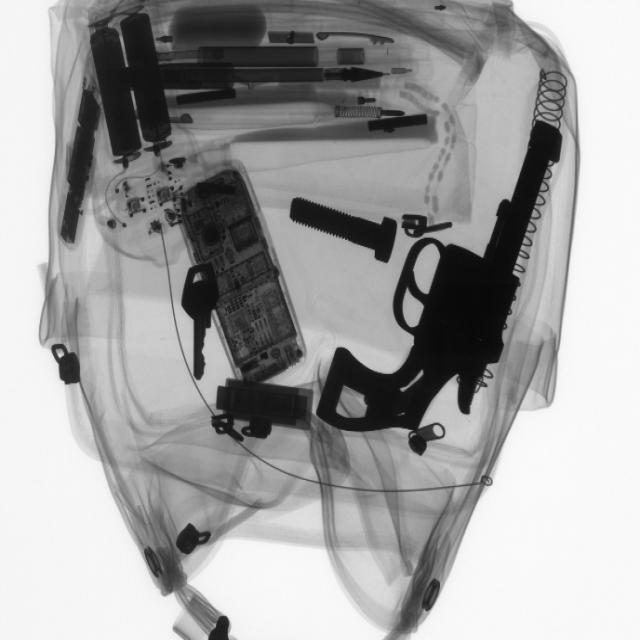GUN: (312, 126, 570, 438)
